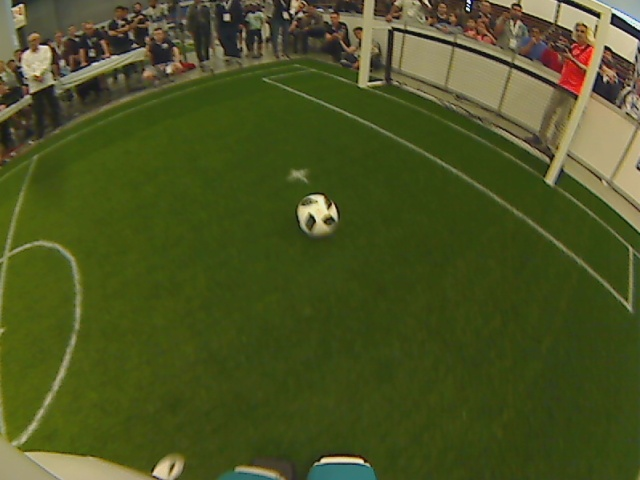ball: (294, 192, 339, 238)
